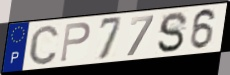6: (189, 7, 220, 53)
7: (126, 15, 156, 58), (98, 16, 122, 62)
C: (27, 23, 61, 67)
P: (59, 21, 92, 64)
S: (155, 11, 189, 54)
